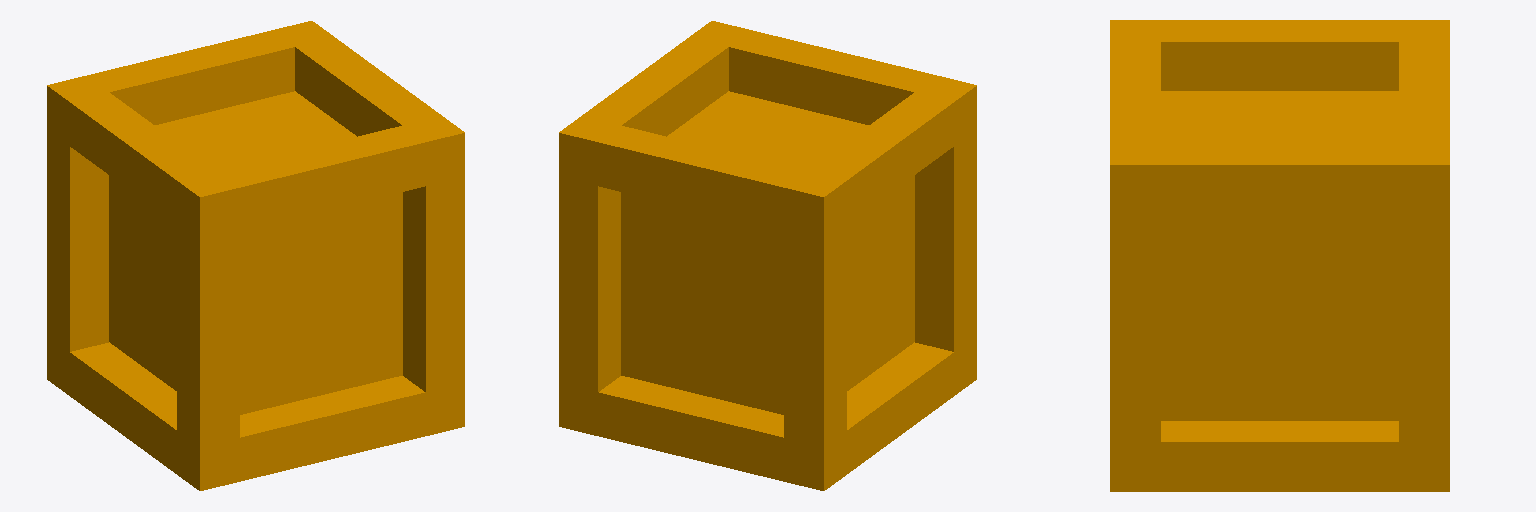
The robot description file, URDF, robot "indented_box":
<?xml version="1.0"?>
<robot name="indented_box">
  <link name="box">

    <!-- Visual -->
    <visual>
      <origin xyz="0 0 0" rpy="0 0 0"/>
      <geometry>
        <mesh filename="indented_box.obj" scale="0.34 0.34 0.36"/>
      </geometry>
    </visual>

    <!-- Collision -->
    <collision>
      <origin xyz="0 0 0" rpy="0 0 0"/>
      <geometry>
        <mesh filename="indented_box.obj" scale="0.34 0.34 0.36"/>
      </geometry>
    </collision>

    <!-- Inertial -->
    <inertial>
      <origin xyz="0 0 0" rpy="0 0 0"/>
      <mass value="10"/>
      <!-- Provide a simple inertia tensor (approximate box). Adjust if needed -->
      <inertia ixx="0.5" iyy="0.5" izz="0.5" ixy="0" ixz="0" iyz="0"/>
    </inertial>

  </link>
</robot>

--- Facts derived from the render (not from the file) ---
3 views of the same robot in one strip: view 1: azimuth 30°, elevation 25°; view 2: azimuth 150°, elevation 25°; view 3: azimuth 270°, elevation 25° (orthographic).
Robot: indented_box — 1 links, 0 joints (none); root link box; default pose: every joint at zero.
Links seen in each view (by area): view 1: box; view 2: box; view 3: box.
Link boxes in pixels (bbox=[...]): box: bbox=[47, 21, 464, 490]; box: bbox=[559, 21, 976, 490]; box: bbox=[1110, 20, 1449, 491].
Bounding box of the posed robot: 0.34 × 0.34 × 0.36 m (x, y, z).
1 mesh visuals loaded from 1 distinct referenced files (1 OBJ).
